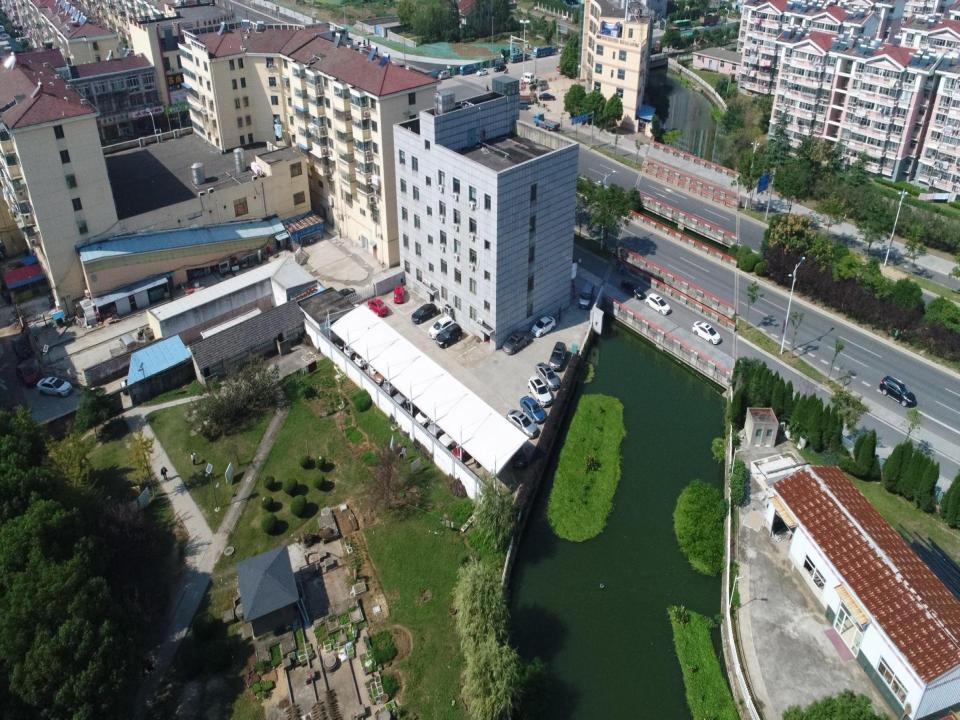car: (880, 375, 916, 407), (506, 408, 538, 439), (535, 361, 561, 391), (37, 376, 72, 398), (528, 375, 552, 407), (519, 395, 546, 423), (692, 321, 721, 345), (436, 323, 462, 349), (503, 330, 530, 354), (426, 420, 454, 443), (645, 292, 671, 316), (438, 430, 462, 454), (428, 316, 453, 339), (620, 278, 646, 300), (16, 363, 38, 388), (451, 441, 477, 462), (549, 342, 567, 372), (510, 438, 528, 468), (531, 316, 556, 337), (10, 336, 31, 361), (412, 303, 436, 324), (381, 378, 406, 397), (392, 389, 415, 408), (415, 410, 439, 428), (368, 298, 388, 317), (403, 398, 424, 416), (354, 350, 376, 367), (344, 342, 366, 359), (336, 288, 356, 303), (368, 357, 384, 375), (335, 335, 353, 351), (374, 370, 392, 385), (537, 91, 556, 103), (393, 285, 404, 303)
van: (578, 281, 594, 309), (521, 72, 538, 86)
